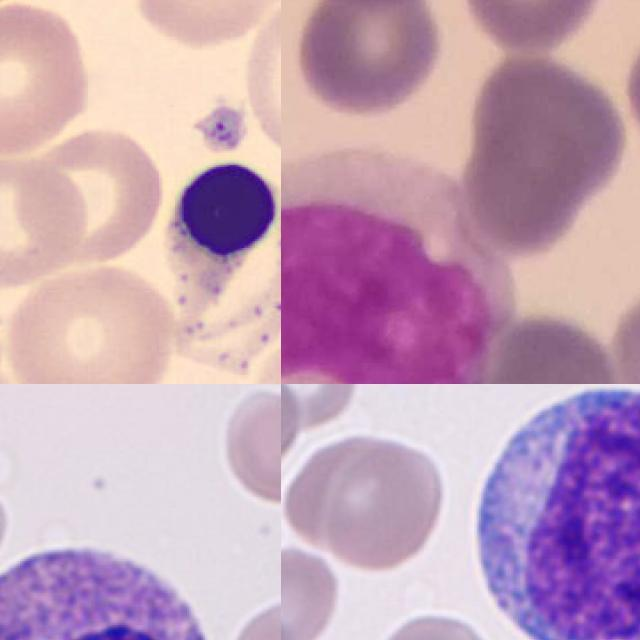Lymphocyte: (457, 384, 640, 640), (0, 527, 226, 640), (162, 161, 281, 373)
Monocyte: (281, 148, 510, 384)
Platelets: (193, 102, 248, 156)
RBC: (12, 121, 170, 269), (0, 257, 182, 384), (317, 435, 449, 575), (0, 0, 96, 154), (0, 144, 93, 294), (125, 0, 281, 50), (219, 385, 281, 507), (240, 0, 281, 160), (281, 541, 346, 640), (367, 607, 504, 640), (281, 384, 362, 434), (281, 384, 306, 487)
